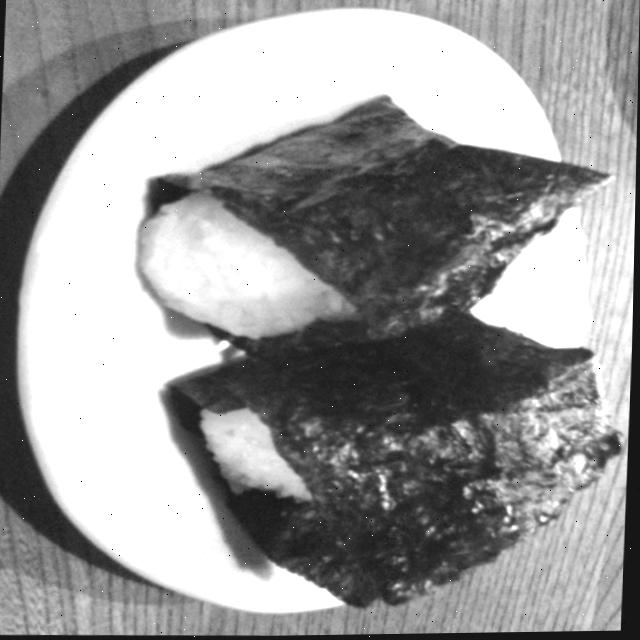米饭主食: (156, 293, 628, 616), (123, 78, 631, 365)
